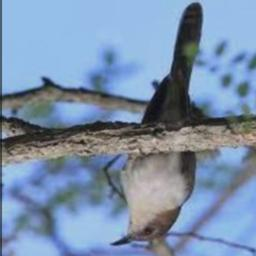Cuckoo: (108, 2, 204, 246)
